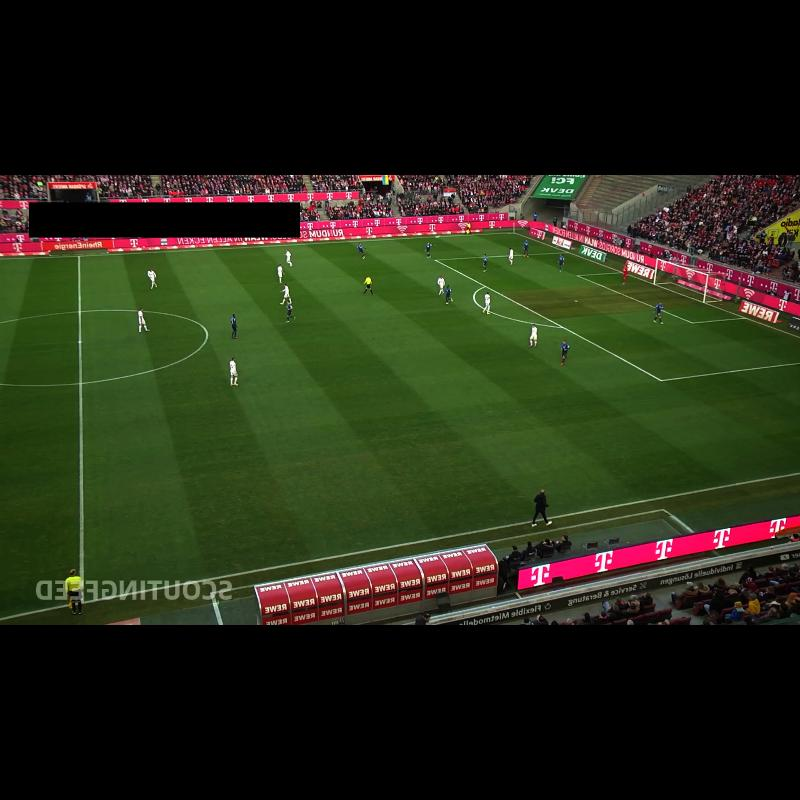cross_recipient_zone: (435, 252, 800, 381)
crossing_player_zone: (516, 363, 800, 501), (306, 233, 565, 265)
pitch: (0, 233, 800, 621)
